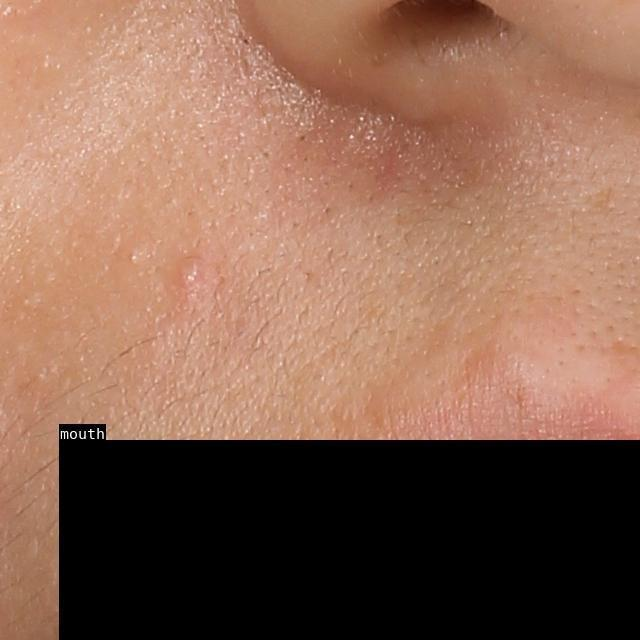comedo: (127, 251, 140, 267)
